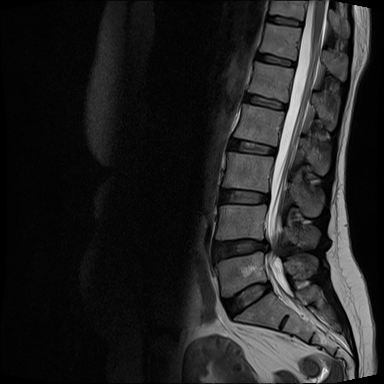Lumbar Disc Bulge (LDB): (202, 234, 276, 265)
Normal IVD: (217, 277, 276, 322), (222, 131, 281, 161), (213, 184, 271, 208), (239, 89, 290, 115), (252, 46, 299, 72), (263, 16, 305, 30)
Spinal Stenosis (SS): (257, 232, 276, 256)
